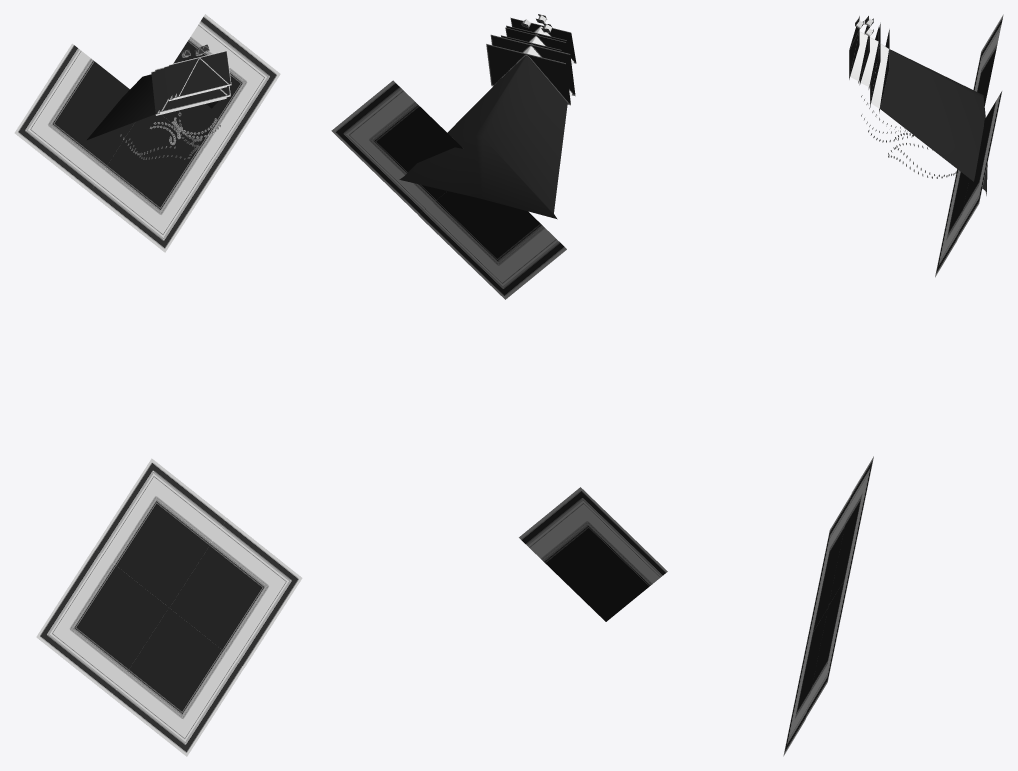
3 renders of one model, left to right at view 1: azimuth 30°, elevation 25°; view 2: azimuth 150°, elevation 25°; view 3: azimuth 270°, elevation 25°, orthographic. The views are drawn at different scales.
Visible parts, largest first — view 1: bordo_01.1 (×2), bordo_01 (×2), bordo_01.3 (×2), bordo_01.2, topgrande2, nero, topgrande2.4; view 2: nero, bordo_01.2, bordo_01.1, bordo_01.3, topgrande2.5, topgrande2.4; view 3: nero, bordo_01.3 (×2), bordo_01.1 (×2), bordo_01 (×2), bordo_01.2, no_alpha.2, no_alpha, no_alpha.1.
Boxes of the visible parts, x1=… form: bordo_01.1 (×2): x1=90, y1=114, x2=244, y2=756; bordo_01 (×2): x1=14, y1=43, x2=168, y2=696; bordo_01.3 (×2): x1=161, y1=14, x2=302, y2=667; bordo_01.2: x1=94, y1=458, x2=227, y2=607; topgrande2: x1=173, y1=50, x2=231, y2=98; nero: x1=87, y1=74, x2=218, y2=139; topgrande2.4: x1=155, y1=67, x2=230, y2=113; nero: x1=399, y1=55, x2=567, y2=219; bordo_01.2: x1=519, y1=487, x2=667, y2=621; bordo_01.1: x1=418, y1=191, x2=566, y2=299; bordo_01.3: x1=331, y1=80, x2=463, y2=214; topgrande2.5: x1=486, y1=44, x2=570, y2=105; topgrande2.4: x1=490, y1=34, x2=575, y2=96; nero: x1=880, y1=49, x2=987, y2=195; bordo_01.3 (×2): x1=805, y1=91, x2=1002, y2=718; bordo_01.1 (×2): x1=783, y1=169, x2=969, y2=756; bordo_01 (×2): x1=806, y1=14, x2=1003, y2=642; bordo_01.2: x1=828, y1=456, x2=873, y2=605; no_alpha.2: x1=871, y1=44, x2=888, y2=108; no_alpha: x1=850, y1=31, x2=867, y2=80; no_alpha.1: x1=860, y1=37, x2=878, y2=86.
Size of the model in its own units: 1756 by 3637 by 952.
Materials: 9 (7 with a texture image).
